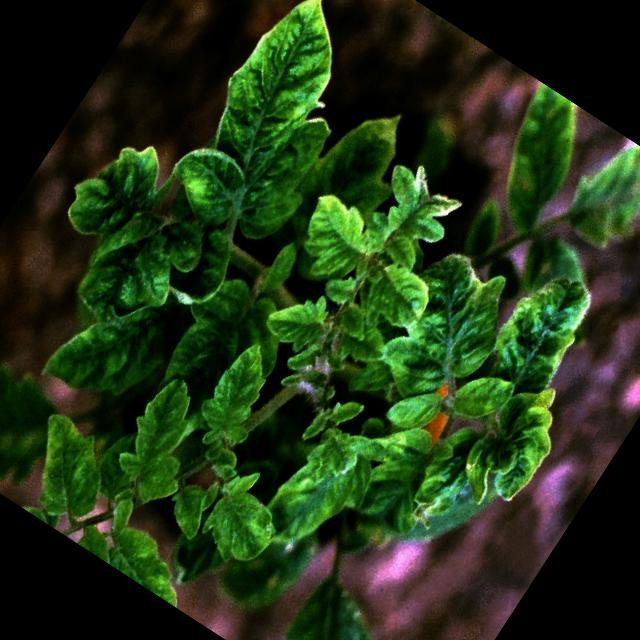Tomato yellow virus leaf: (154, 0, 411, 262), (366, 236, 534, 422), (36, 252, 200, 428), (462, 81, 606, 242), (93, 360, 235, 522), (475, 247, 615, 406), (251, 430, 377, 570), (280, 172, 404, 303), (182, 336, 292, 464), (183, 455, 299, 576), (352, 248, 446, 342), (441, 354, 522, 436), (257, 276, 335, 358), (378, 375, 446, 445)
